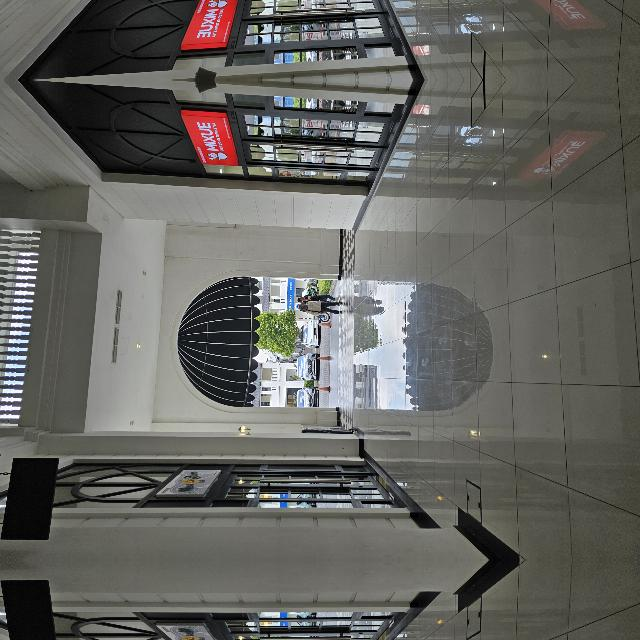door: (391, 317, 451, 479), (54, 290, 100, 468)
person: (242, 374, 264, 426)
